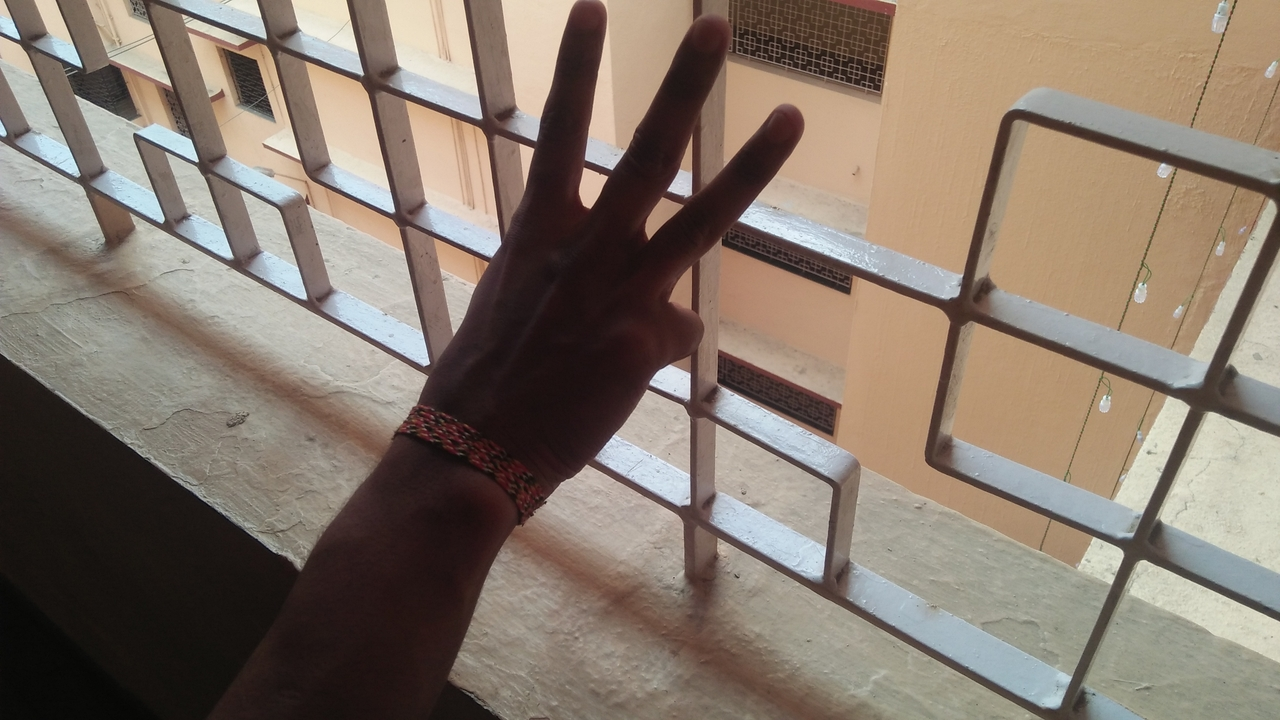fingertip: (752, 94, 810, 142), (682, 12, 732, 60), (562, 0, 610, 42)
